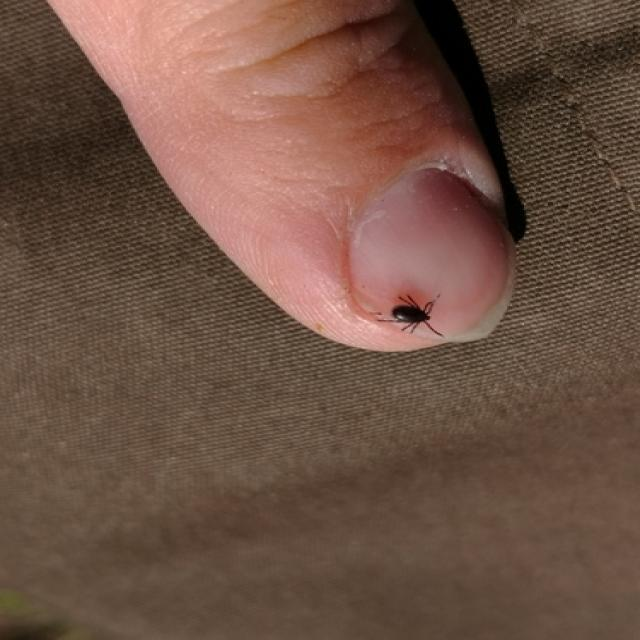Ixodes Ricinus-M: (379, 292, 445, 339)
